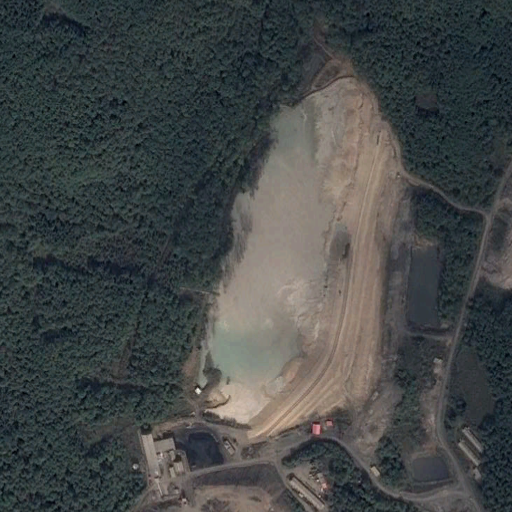tp: (198, 76, 398, 439)
